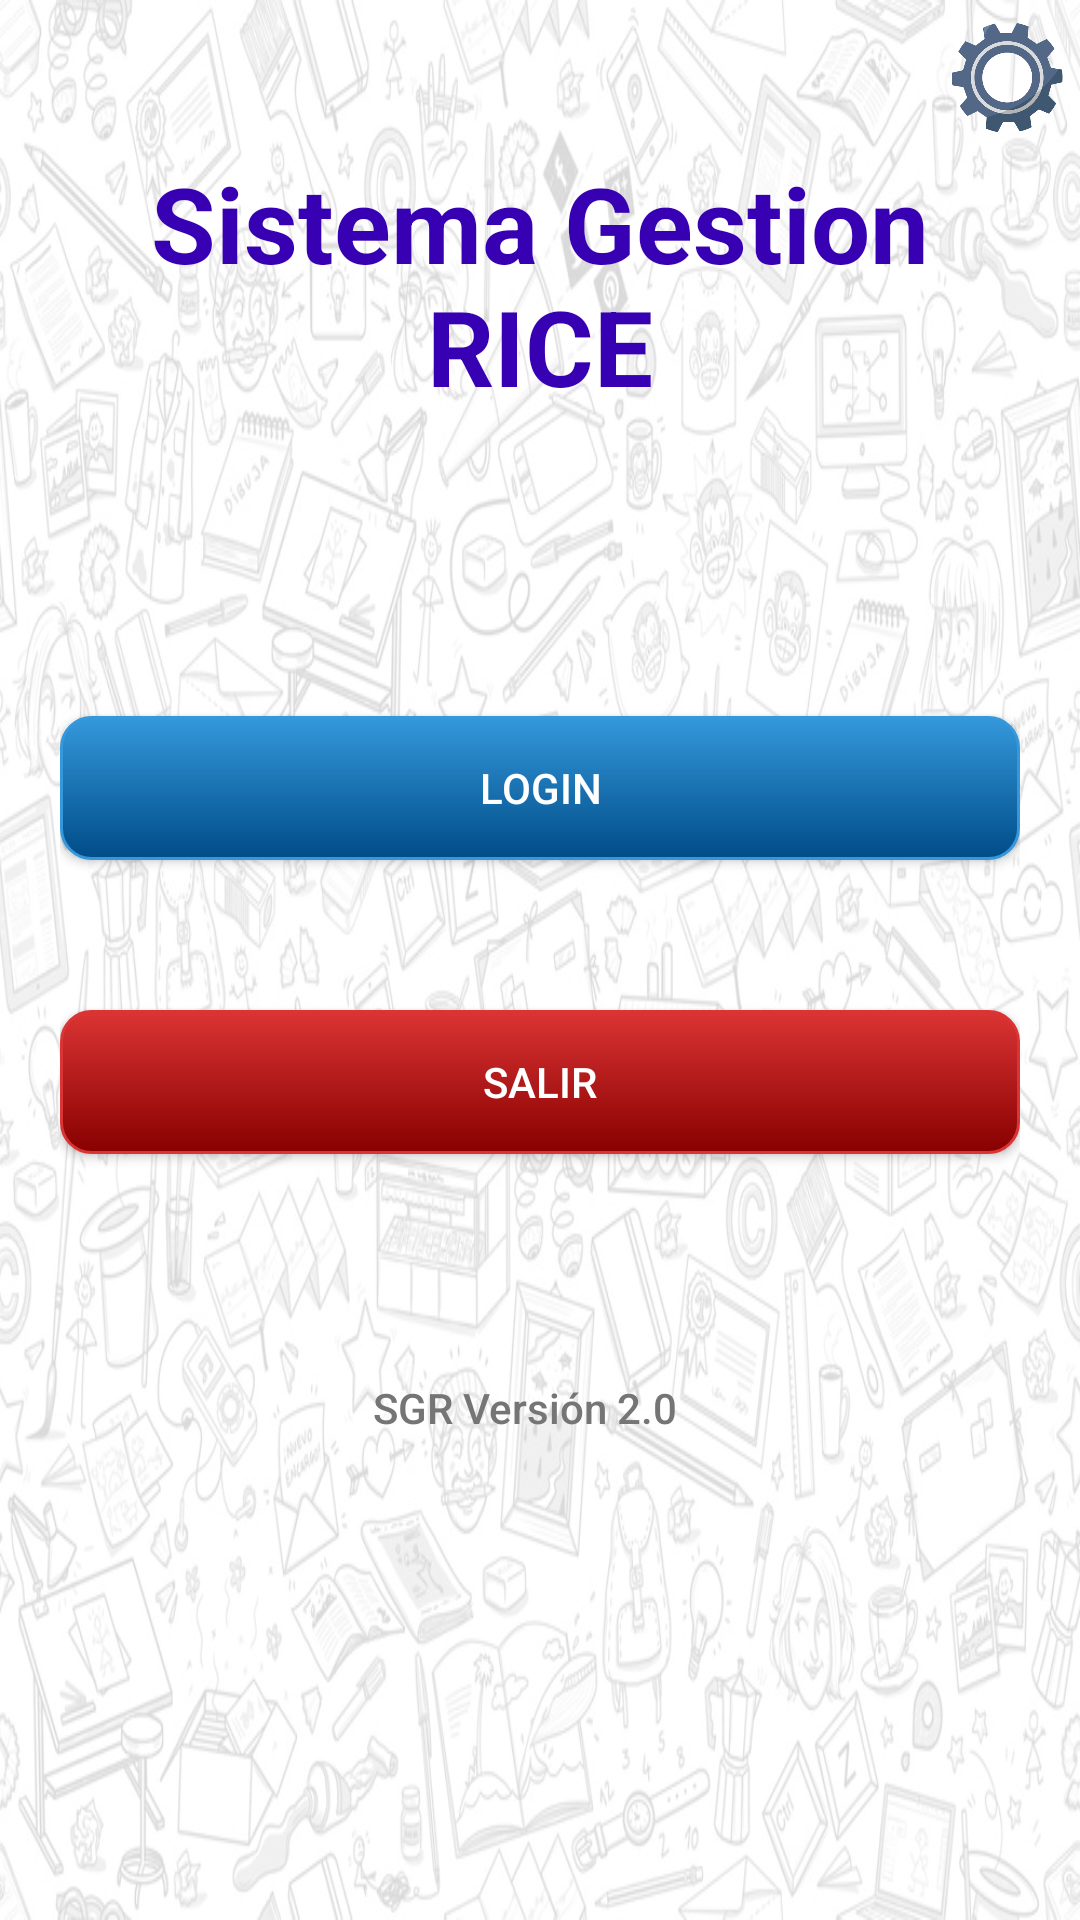

Icon bounding boxes for this 1080 x 1920 phone screenshot, format (x1, y1, x2, y2):
imgconfi: (930, 3, 1067, 153)
